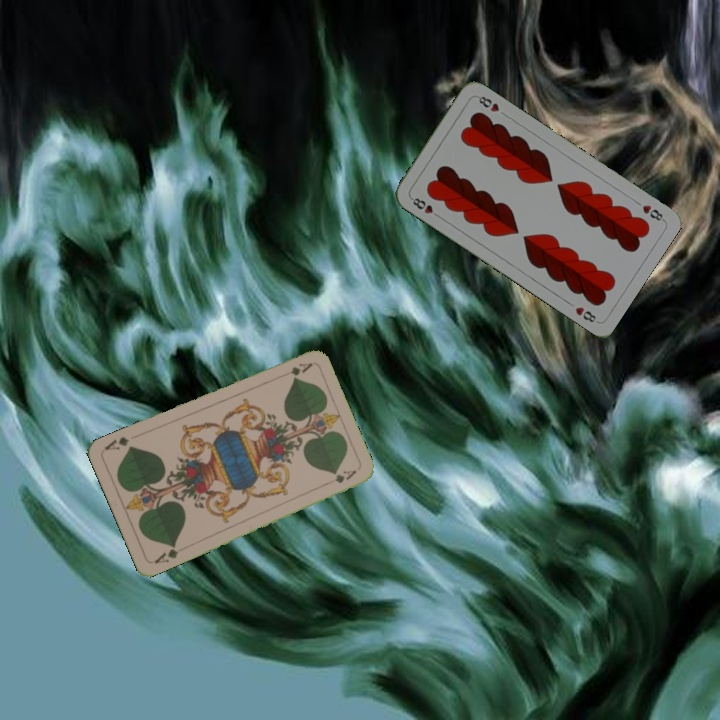GA: (150, 540, 188, 566), (275, 359, 314, 380)
H8: (407, 193, 443, 220), (638, 201, 667, 223)
